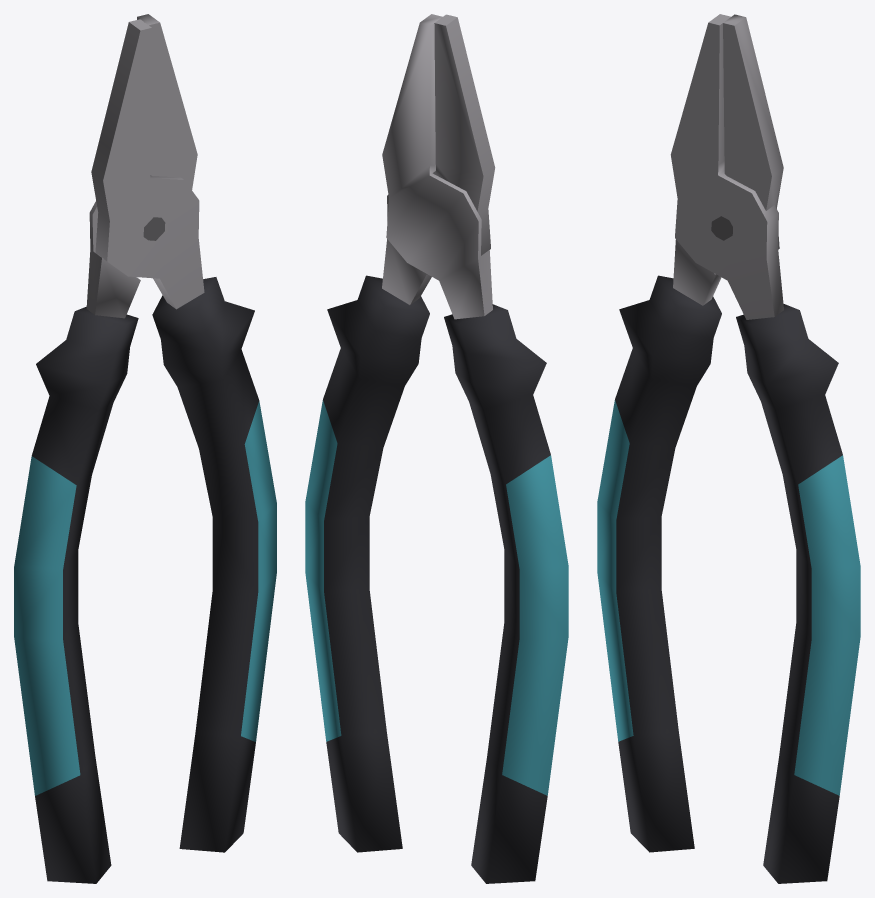
Rendered from Plier.fbx.
3 renders of one model, left to right at view 1: azimuth 30°, elevation 25°; view 2: azimuth 150°, elevation 25°; view 3: azimuth 330°, elevation 25°, orthographic.
Visible parts, largest first — view 1: right_handle, left_handle; view 2: left_handle, right_handle; view 3: right_handle, left_handle.
Boxes of the visible parts, x1,y1,x2,y2 form: right_handle: [91, 19, 276, 852]; left_handle: [14, 14, 197, 883]; left_handle: [382, 14, 568, 883]; right_handle: [305, 14, 495, 852]; right_handle: [670, 14, 860, 883]; left_handle: [597, 14, 783, 852].
Size of the model in its own units: 0.0719 by 0.2211 by 0.0184.
